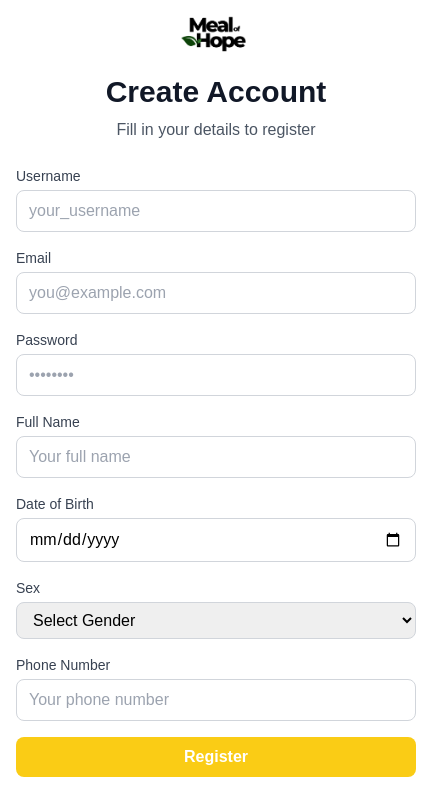
Test: RegisterPage › shows error message on failure
Type "bob" into the field labelled "Username" at (216,210), box [16,190,416,232]
Type "b@c.com" into the field labelled "Email" at (216,292), box [16,272,416,314]
Type "pass" into the password field labelled "Password" at (216,374), box [16,354,416,396]
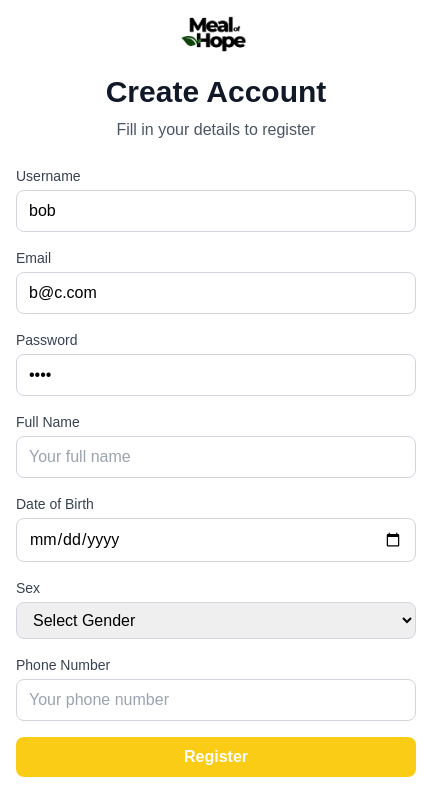
Type "Bob B." into the field labelled "Full Name" at (216,456), box [16,436,416,478]
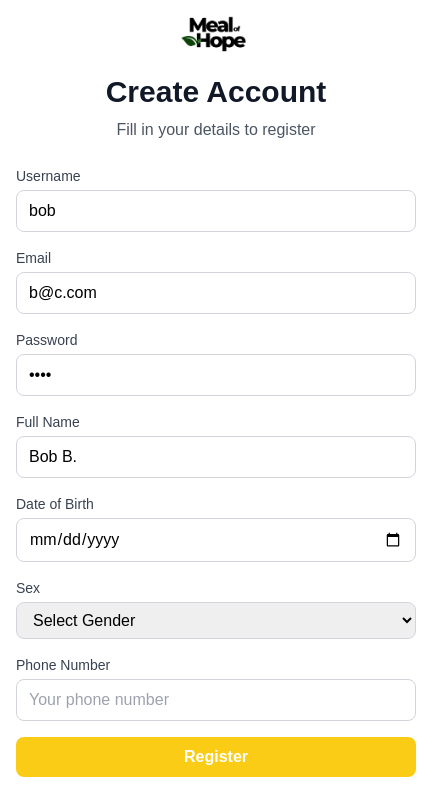
Type "1990-05-05" into the date field labelled "Date of Birth" at (216,540), box [16,518,416,562]
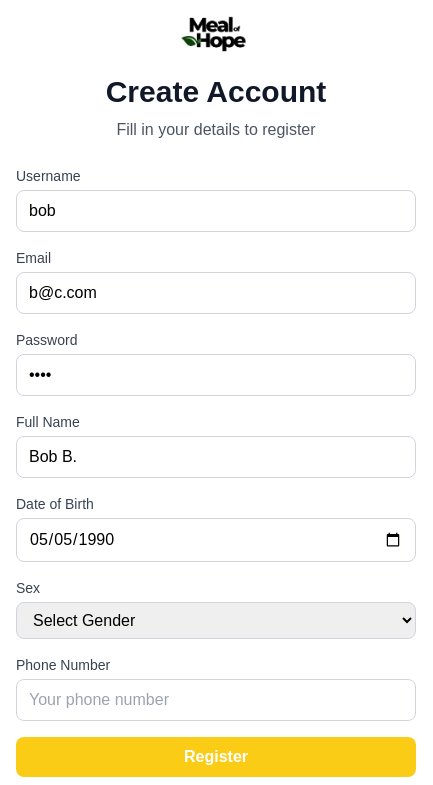
Select "Male" in the dropdown labelled "Sex" at (216,620), box [16,602,416,638]
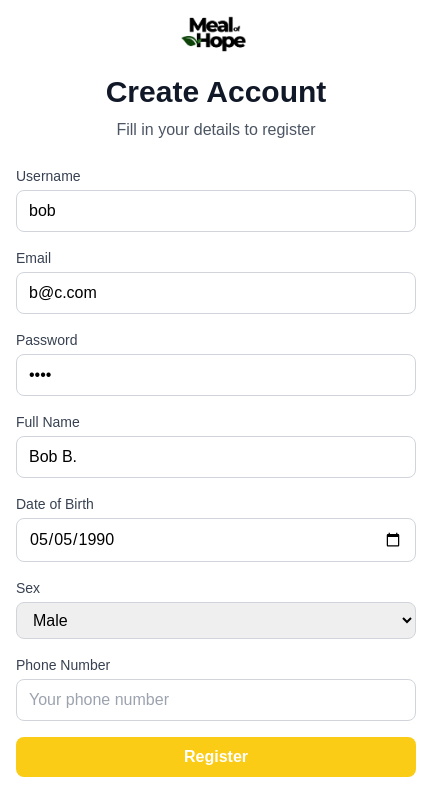
Type "0987654321" into the field labelled "Phone Number" at (216,700), box [16,678,416,720]
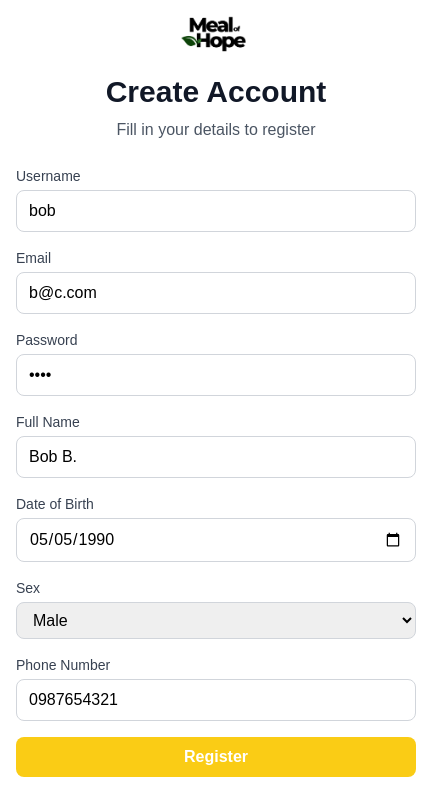
Click the button "Register" at (216,756), box [16,736,416,776]
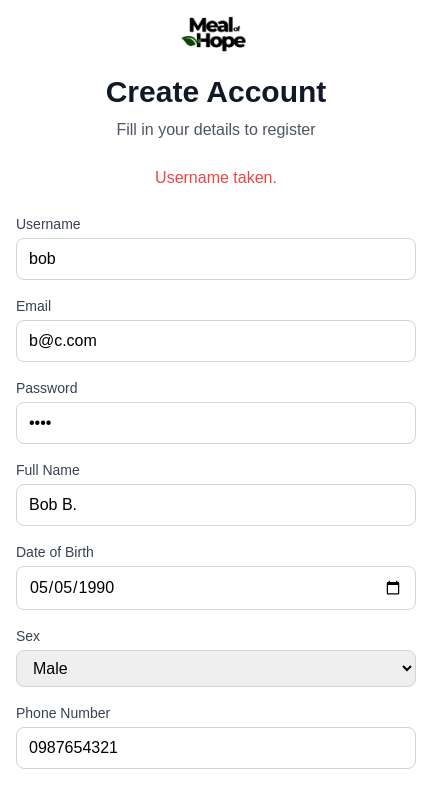
Expected: the text "Username taken." is shown, [155,168,277,186]
